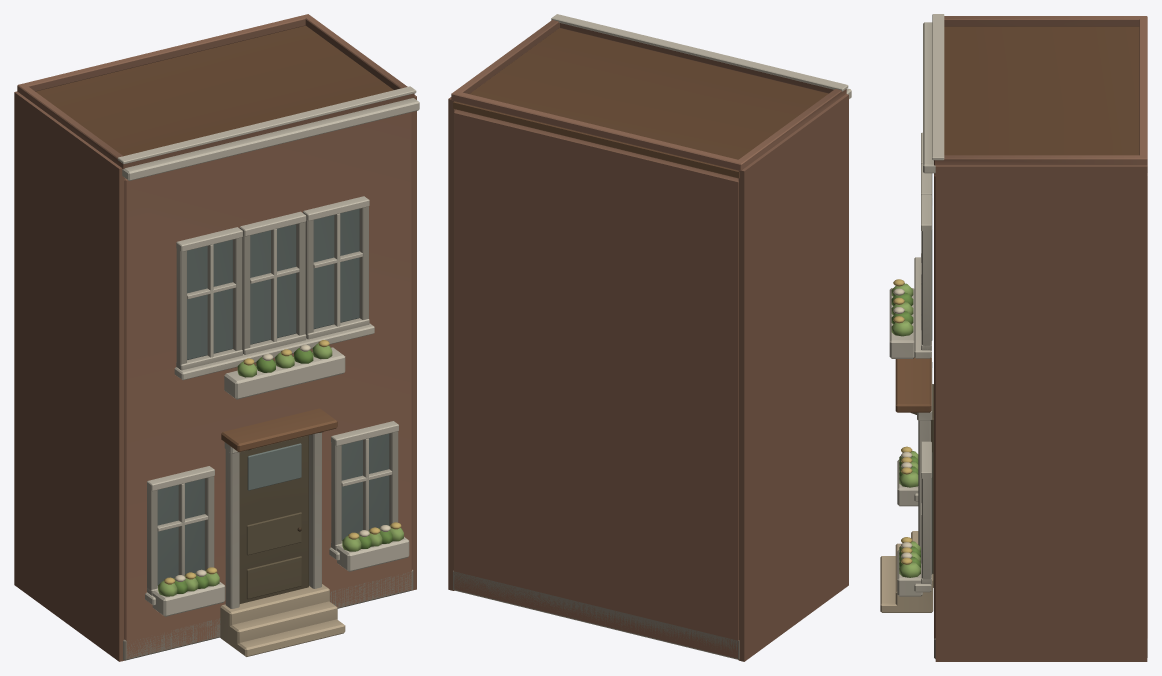
Rendered from facade_generic_1.glb.
3 views of the same model, side by side, from view 1: azimuth 30°, elevation 25°; view 2: azimuth 150°, elevation 25°; view 3: azimuth 270°, elevation 25° (orthographic).
Visible parts, largest first — view 1: facade_generic_1; view 2: facade_generic_1; view 3: facade_generic_1.
Boxes of the visible parts, x1,y1,x2,y2 form: facade_generic_1: [14, 14, 419, 661]; facade_generic_1: [448, 14, 851, 661]; facade_generic_1: [880, 14, 1147, 661].
Size of the model in its own units: 4.04 by 6.5 by 3.13.
